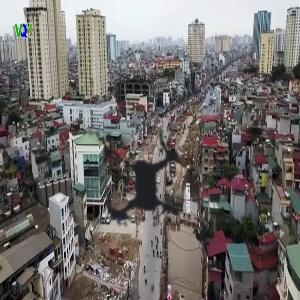drone: (38, 71, 259, 292)
